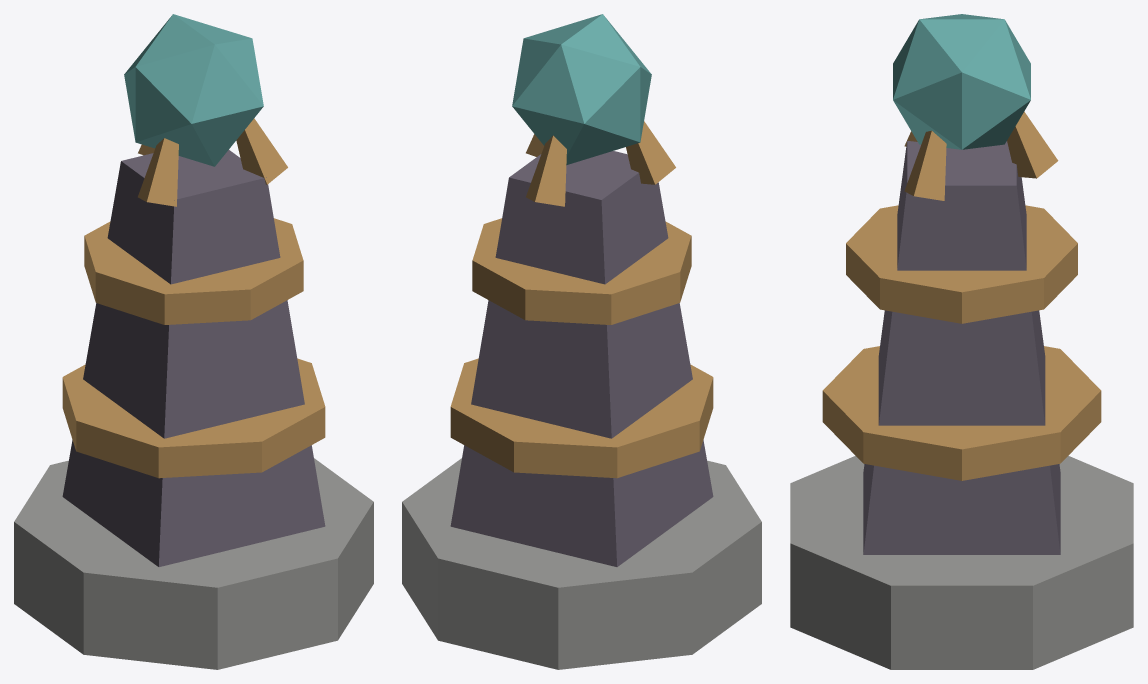
Rendered from spire.glb.
The picture shows the model from 3 angles, left to right: view 1: azimuth 30°, elevation 25°; view 2: azimuth 150°, elevation 25°; view 3: azimuth 270°, elevation 25°; orthographic projection. The views are drawn at different scales.
Visible parts, largest first — view 1: Obelisk, Plinth, Orb, BandA, BandB, Prong1, Prong2; view 2: Obelisk, Plinth, Orb, BandA, BandB, Prong0, Prong1; view 3: Obelisk, Plinth, BandA, Orb, BandB, Prong2, Prong0.
Part boxes in pixels (x1,y1,x2,y2): Obelisk: [62, 150, 325, 566]; Plinth: [14, 458, 373, 669]; Orb: [124, 14, 263, 166]; BandA: [62, 358, 325, 478]; BandB: [84, 218, 303, 324]; Prong1: [138, 138, 178, 206]; Prong2: [236, 118, 287, 184]; Obelisk: [450, 151, 713, 566]; Plinth: [402, 458, 761, 669]; Orb: [512, 14, 651, 165]; BandA: [450, 358, 713, 478]; BandB: [472, 218, 691, 324]; Prong0: [526, 135, 566, 206]; Prong1: [626, 121, 675, 184]; Obelisk: [863, 141, 1060, 554]; Plinth: [790, 456, 1133, 669]; BandA: [822, 346, 1101, 480]; Orb: [893, 14, 1030, 149]; BandB: [846, 205, 1077, 323]; Prong2: [904, 130, 946, 200]; Prong0: [1007, 111, 1058, 178].
Bounding box in the file's own units: 0.8869 × 1.65 × 0.8869.
